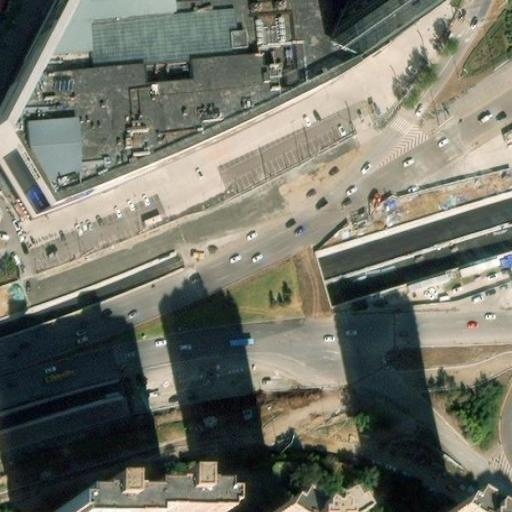building: (329, 0, 433, 50), (51, 507, 72, 512)
